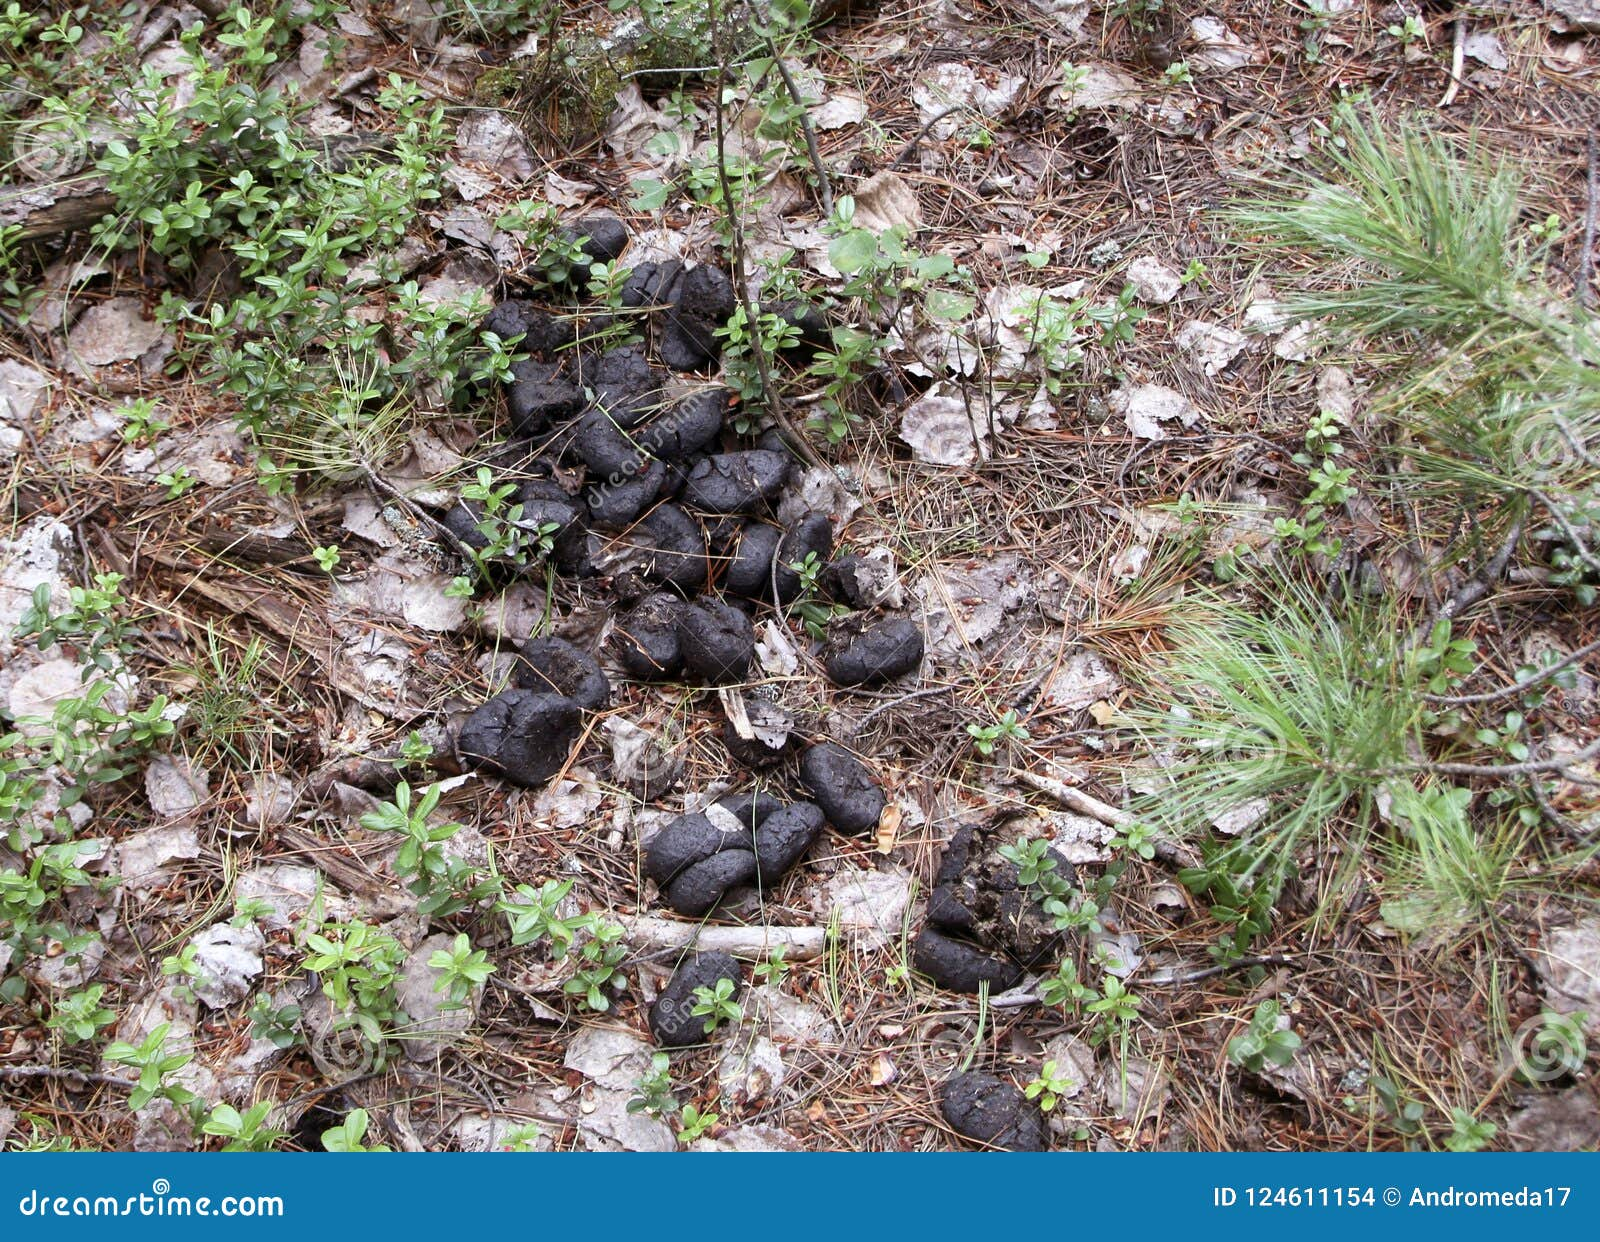Elk: (442, 223, 864, 916)
